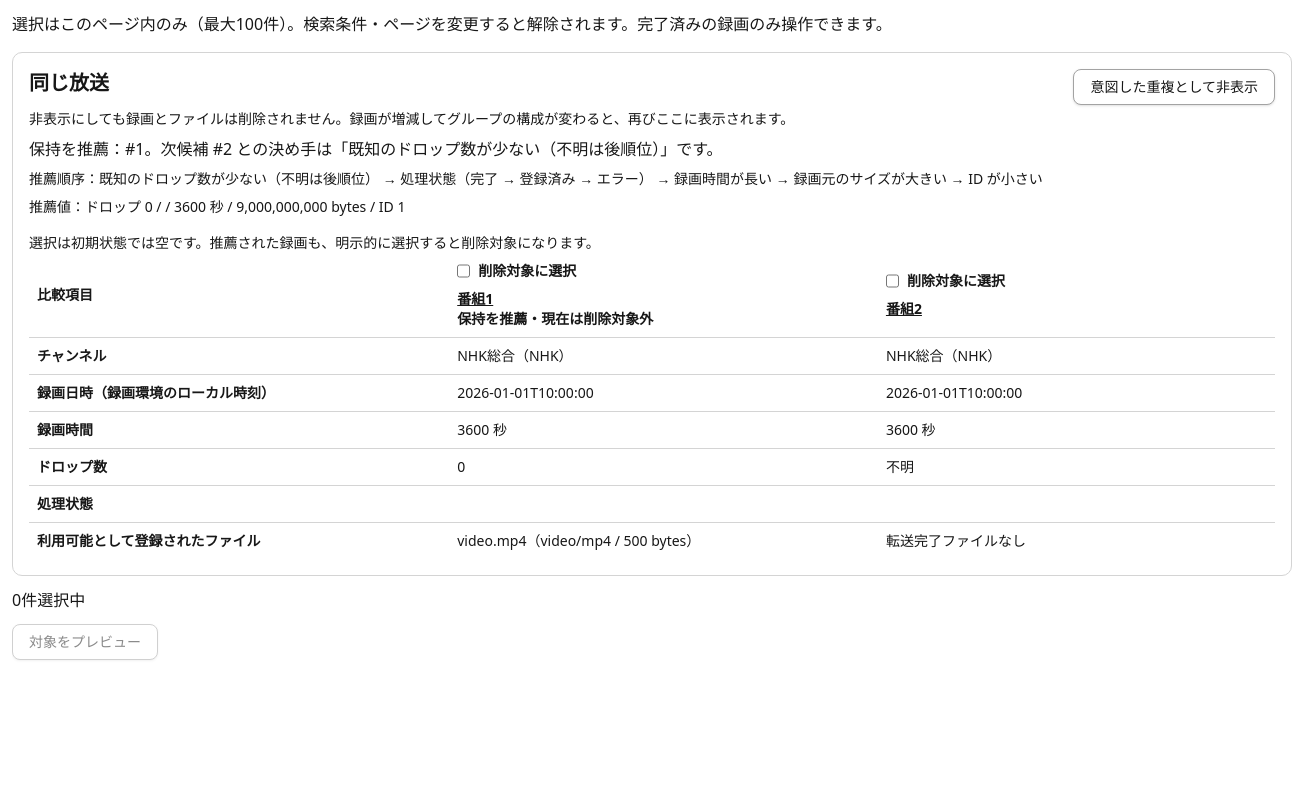
DuplicateReviewPanel › warns while every member of a group is selected, since nothing would be kept
This screenshot has width=1292, height=812.
Click the checkbox named "削除対象に選択 #2" at (892, 281), box [886, 271, 899, 291]
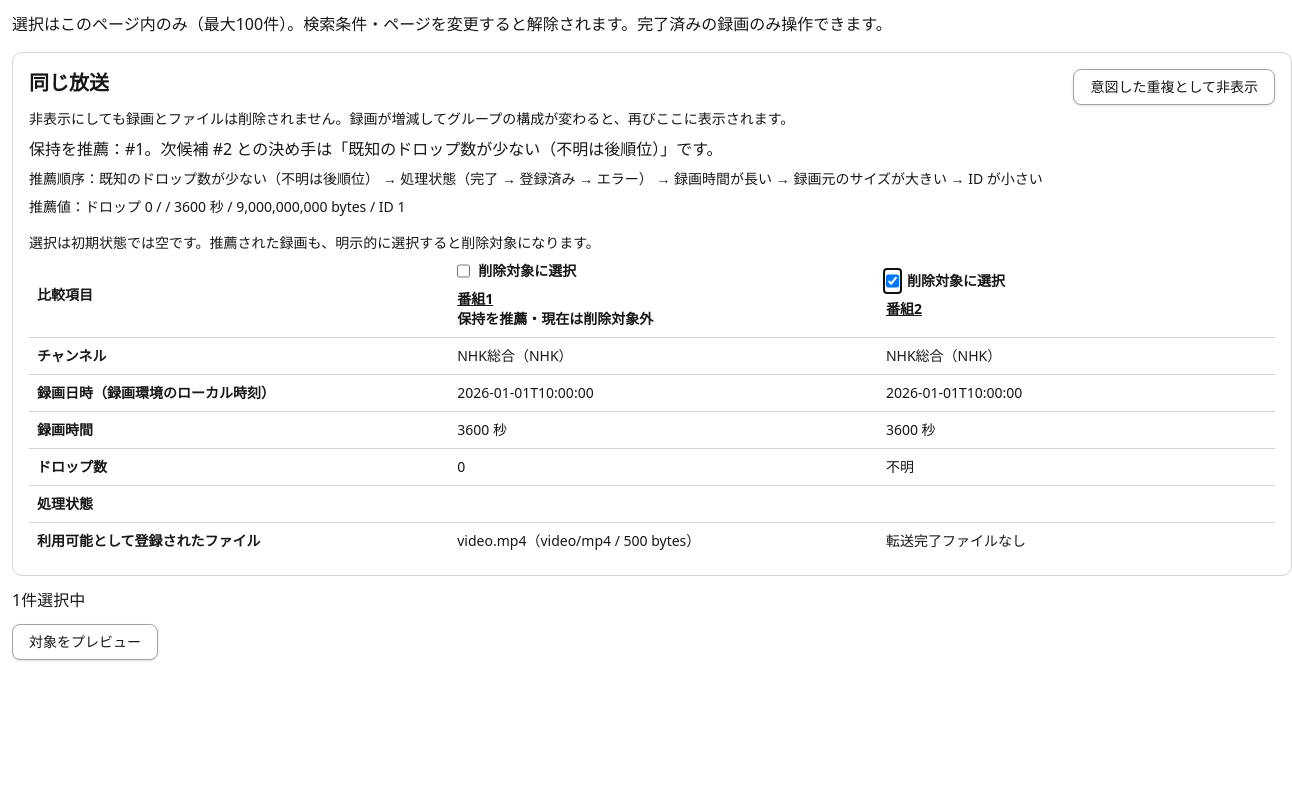
Click the checkbox named "削除対象に選択 #1" at (464, 271), box [457, 261, 470, 281]
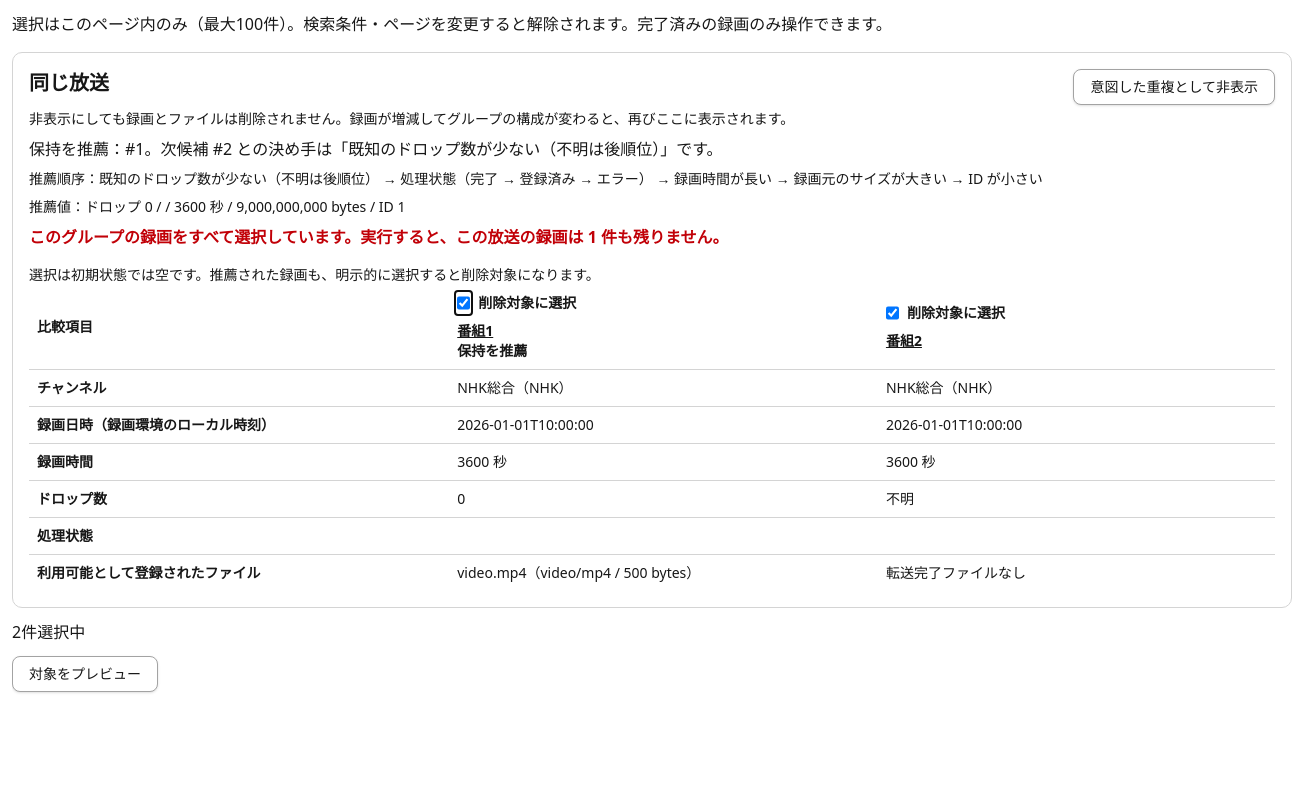
Expected: the message shows "すべて選択しています", [29, 226, 729, 248]
Click the checkbox named "削除対象に選択 #1" at (464, 303), box [457, 293, 470, 313]
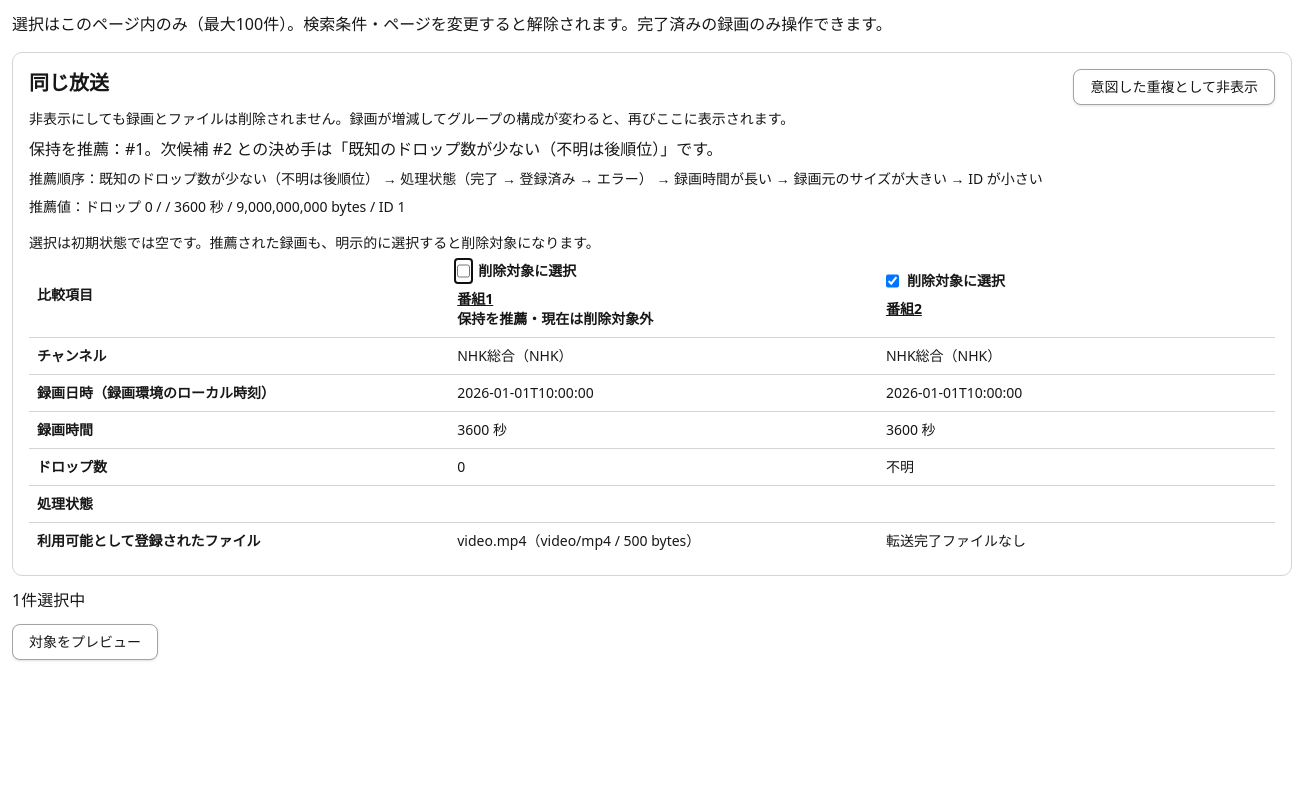
Expected: the message "このグループの録画をすべて選択しています。実行すると、この放送の録画は 1 件も残りません。" is gone
